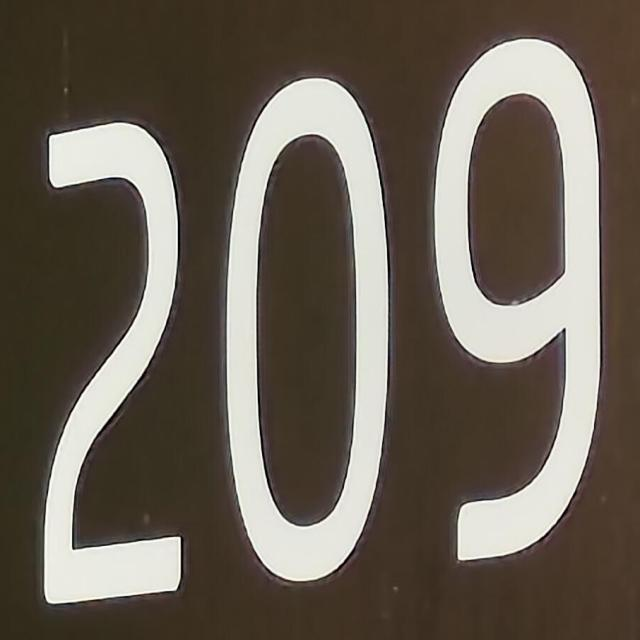character: (424, 28, 613, 568), (221, 71, 397, 596), (28, 109, 195, 617)
